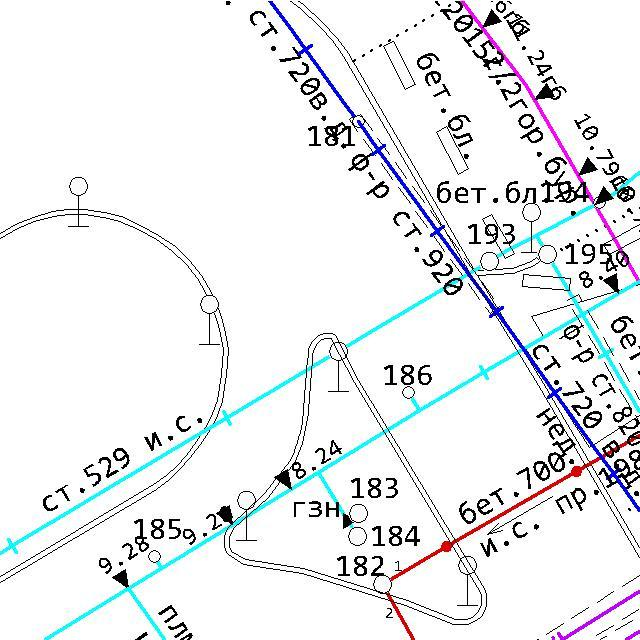mark: (481, 7, 504, 30), (576, 156, 598, 178), (533, 81, 556, 102), (273, 469, 294, 492), (601, 272, 621, 296), (595, 184, 615, 207), (215, 503, 234, 526), (111, 567, 130, 589)
sing: (196, 292, 223, 348), (65, 174, 92, 229), (456, 554, 480, 607), (327, 340, 350, 394), (236, 488, 258, 544), (521, 201, 541, 255)
well: (346, 525, 369, 548), (536, 243, 558, 266), (347, 502, 370, 524), (479, 250, 501, 272), (372, 573, 393, 595), (400, 384, 417, 401)
